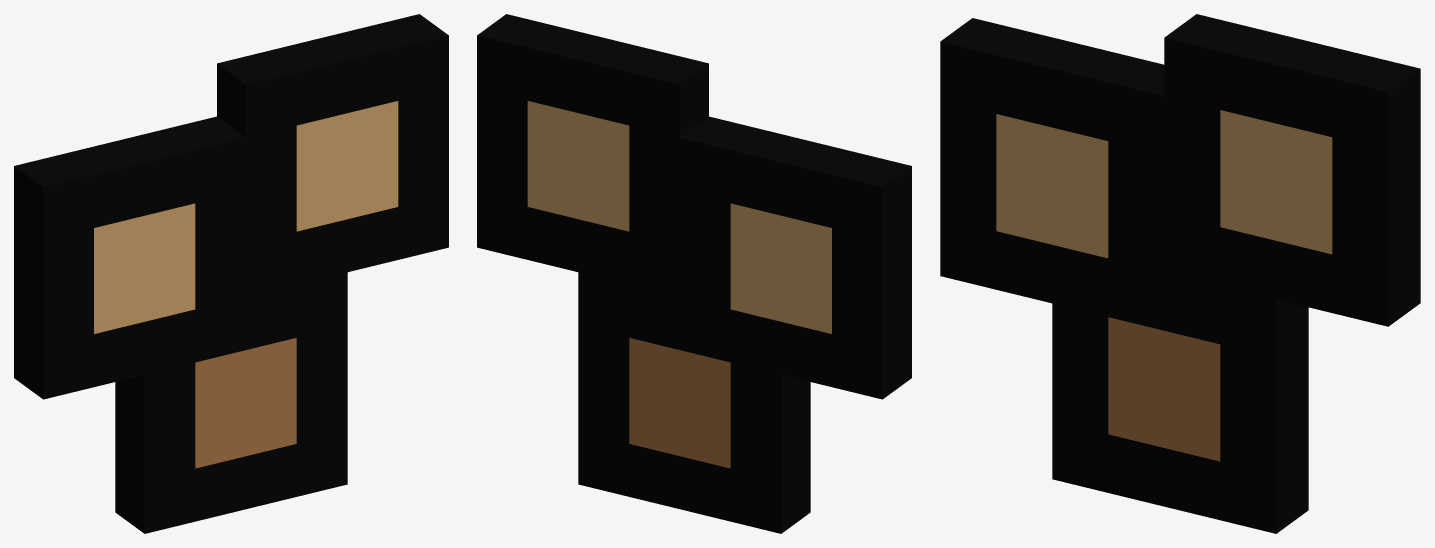
File: Beetroot Seeds.glb
3 renders of one model, left to right at view 1: azimuth 30°, elevation 25°; view 2: azimuth 150°, elevation 25°; view 3: azimuth 330°, elevation 25°, orthographic. The views are drawn at different scales.
Parts seen in each view (by area): view 1: generated(Clone); view 2: generated(Clone); view 3: generated(Clone).
Boxes of the visible parts, <box> form: generated(Clone): <box>14,14,448,533</box>; generated(Clone): <box>477,14,911,533</box>; generated(Clone): <box>940,14,1420,533</box>.
Size of the model in its own units: 8 by 8 by 1.
Materials: 1 (1 with a texture image).
